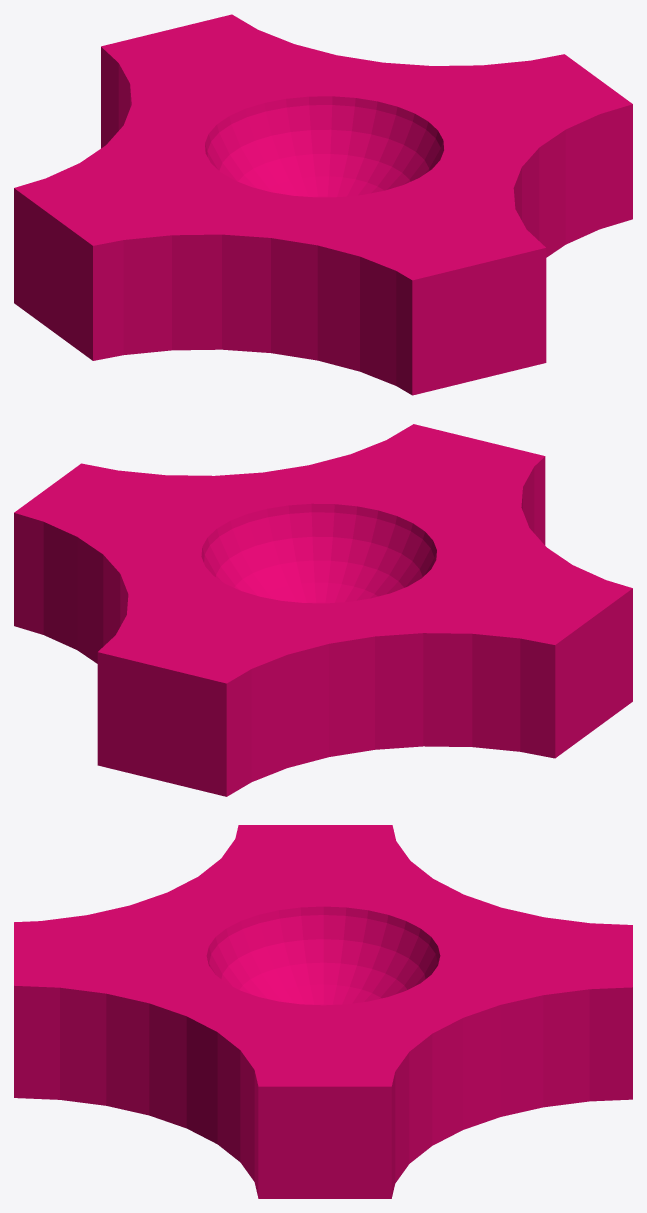
File: dip.glb
3 renders of one model, top to bottom at view 1: azimuth 30°, elevation 25°; view 2: azimuth 150°, elevation 25°; view 3: azimuth 270°, elevation 25°, orthographic. The views are drawn at different scales.
Visible parts, largest first — view 1: Cube; view 2: Cube; view 3: Cube.
Part boxes in pixels (x1,y1,x2,y2): Cube: (14, 14, 632, 395); Cube: (14, 424, 632, 796); Cube: (14, 825, 632, 1198).
Bounding box in the file's own units: 5 × 1 × 5.
